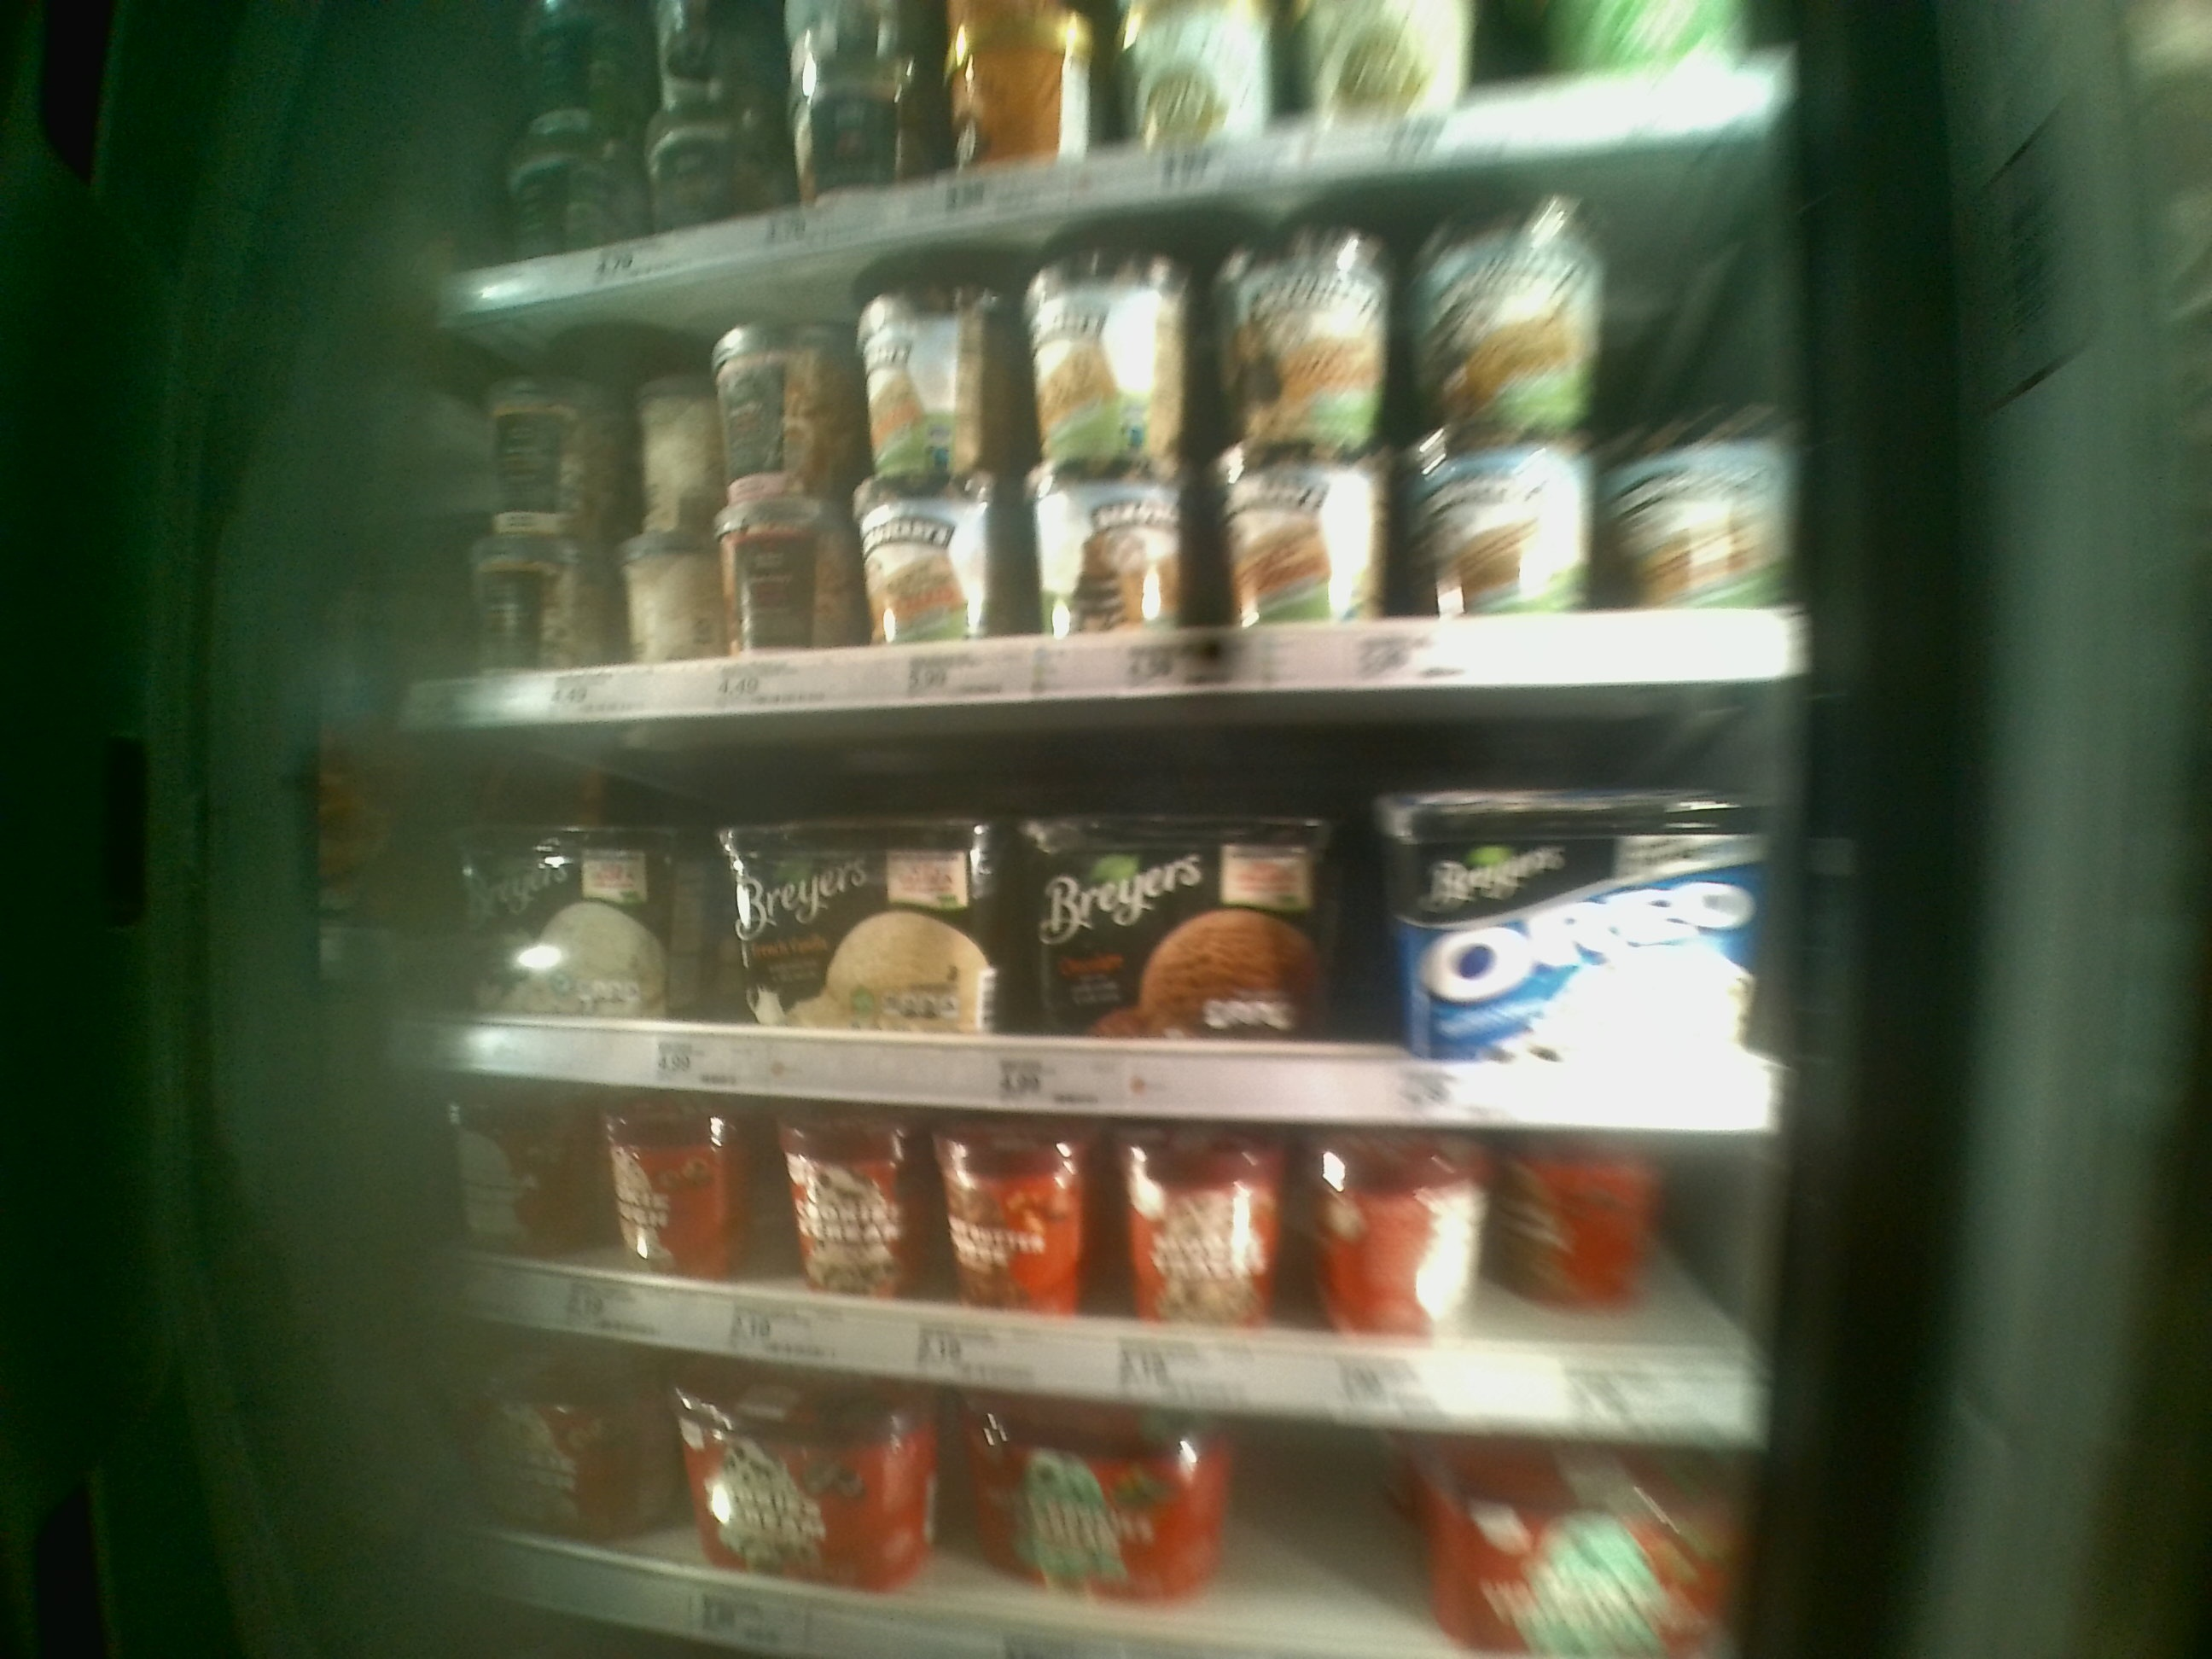shelf: (420, 122, 1801, 723), (415, 683, 1794, 1133), (399, 1053, 1789, 1450)
